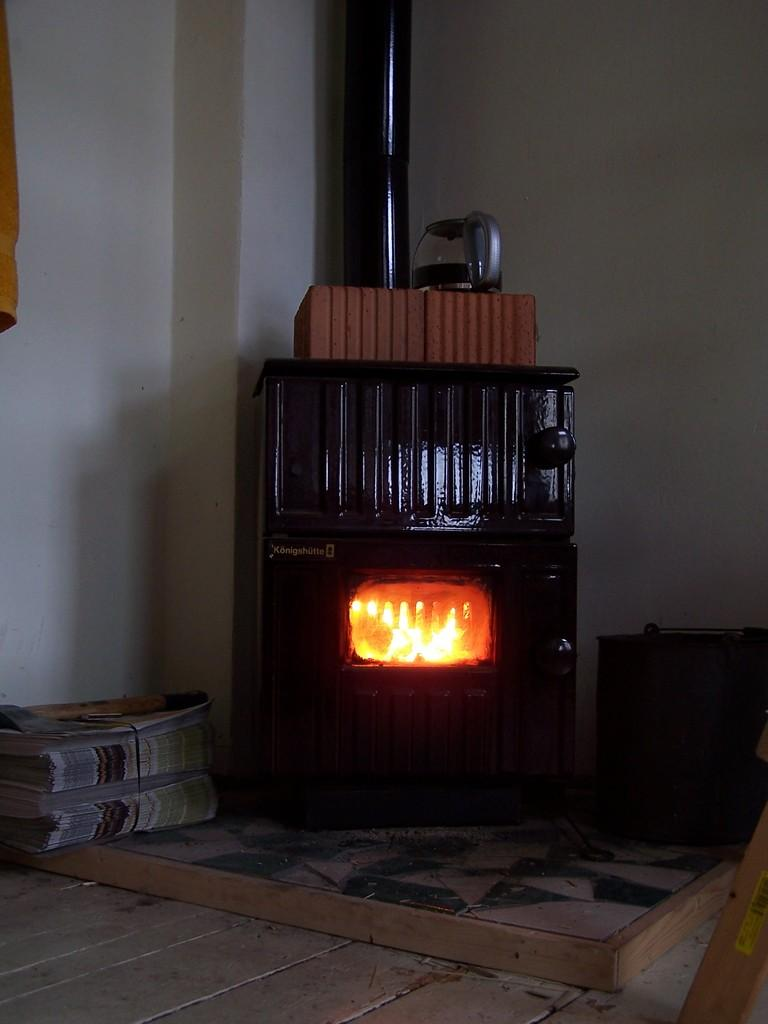Fire: (351, 585, 499, 668)
